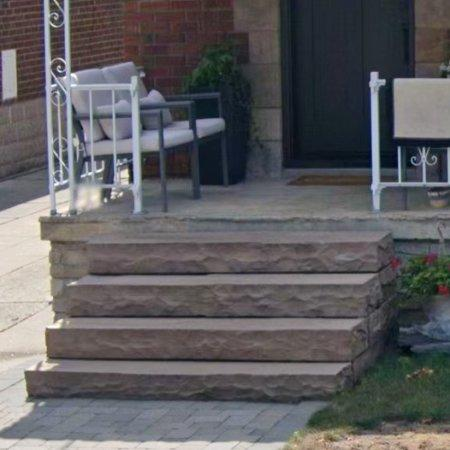stairs: (27, 215, 398, 401)
